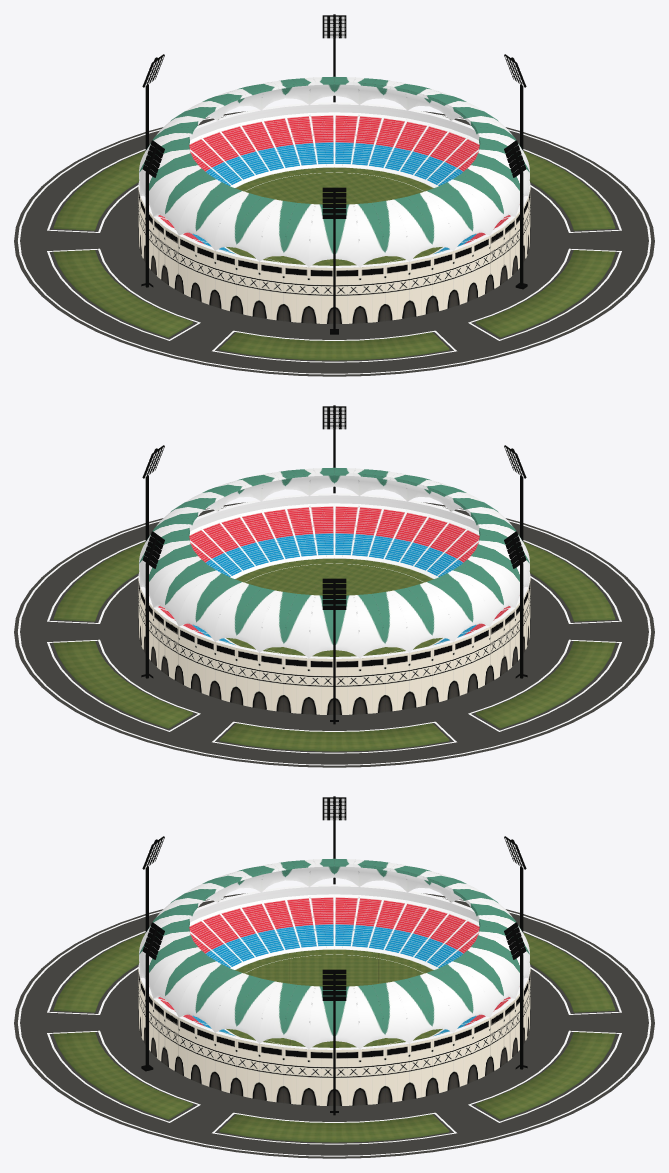
File: stadium.glb
3 views of the same model, one above another, from view 1: azimuth 30°, elevation 25°; view 2: azimuth 150°, elevation 25°; view 3: azimuth 270°, elevation 25° (orthographic).
Parts seen in each view (by area): view 1: Ekana Stadium; view 2: Ekana Stadium; view 3: Ekana Stadium.
Part boxes in pixels (bbox=[...]): Ekana Stadium: bbox=[14, 14, 654, 376]; Ekana Stadium: bbox=[14, 405, 654, 767]; Ekana Stadium: bbox=[14, 796, 654, 1158].
Size of the model in its own units: 95.04 by 22.94 by 95.04.
1 material, 1 textured.
